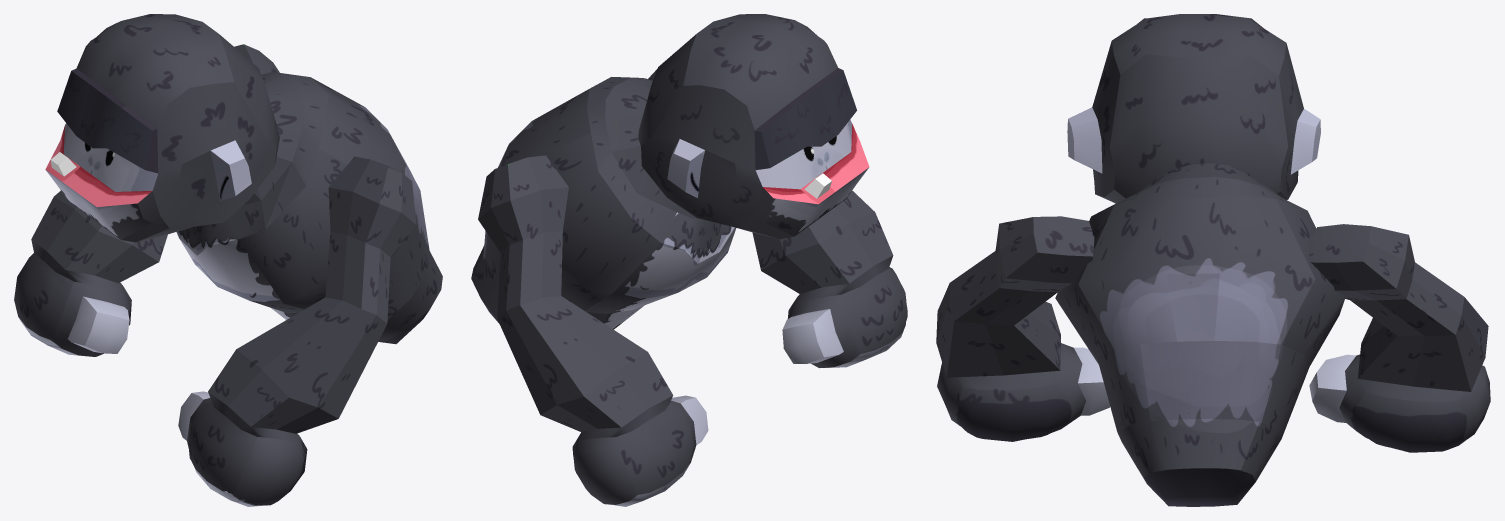
Rendered from enemgo.fbx.
The picture shows the model from 3 angles, left to right: view 1: azimuth 30°, elevation 25°; view 2: azimuth 150°, elevation 25°; view 3: azimuth 270°, elevation 25°; orthographic projection. The views are drawn at different scales.
Visible parts, largest first — view 1: GorillaArms, GorilaHead, Gorilla Budy; view 2: GorillaArms, GorilaHead, Gorilla Budy; view 3: Gorilla Budy, GorillaArms, GorilaHead.
Part boxes in pixels (x1,y1,x2,y2): GorillaArms: (14,44,416,506); GorilaHead: (45,14,279,242); Gorilla Budy: (176,72,442,344); GorillaArms: (478,69,907,506); GorilaHead: (638,14,869,238); Gorilla Budy: (471,77,736,329); Gorilla Budy: (1055,163,1344,506); GorillaArms: (936,216,1490,452); GorilaHead: (1067,14,1320,203).
Size of the model in its own units: 115 by 120 by 146.
